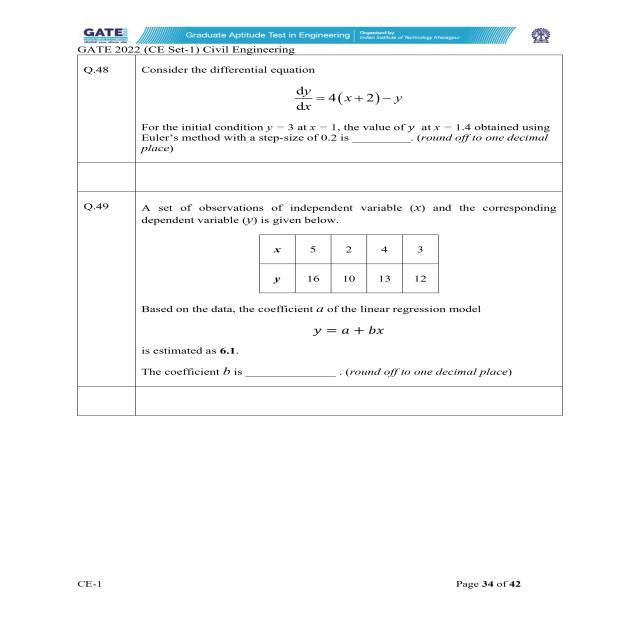Question_Answer_Block: (49, 189, 597, 388), (51, 56, 599, 162)
Question_Block: (49, 189, 597, 388), (51, 56, 599, 162)
Question_Paper_Area: (47, 55, 603, 443)
